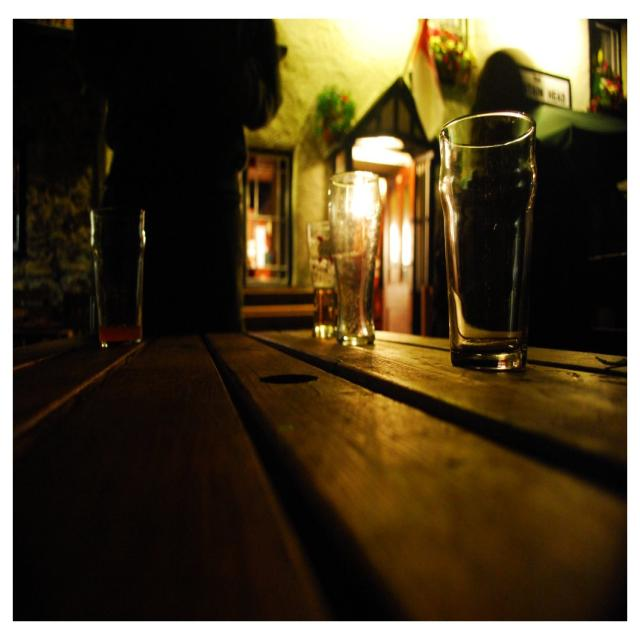Cup: (444, 108, 538, 395), (334, 158, 401, 356), (83, 187, 152, 355), (298, 206, 348, 374)
People: (96, 14, 291, 332)
Table: (14, 289, 640, 640)
